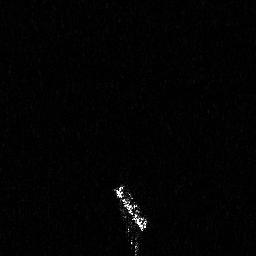ship: (111, 182, 150, 256)
